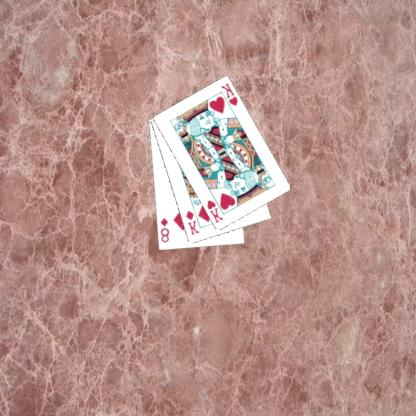8D: (160, 215, 172, 243)
KD: (185, 208, 202, 236)
KH: (206, 198, 227, 224), (220, 81, 240, 107)
